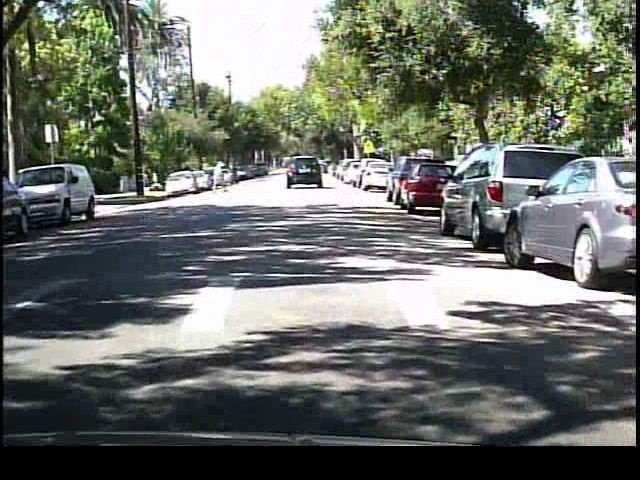person: (210, 155, 230, 196)
